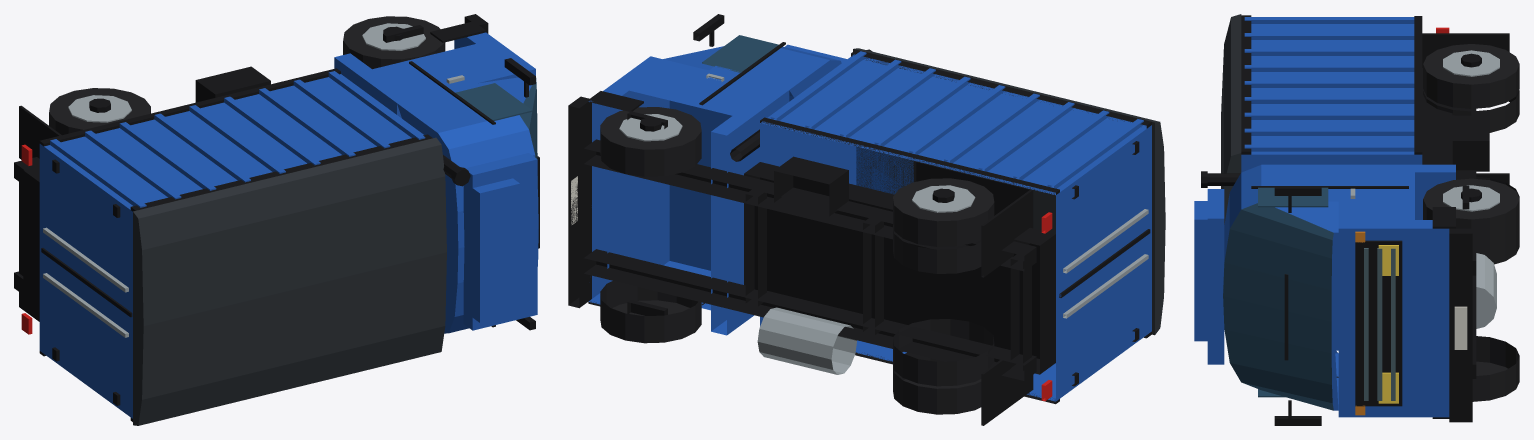
The picture shows the model from 3 angles, left to right: view 1: azimuth 30°, elevation 25°; view 2: azimuth 150°, elevation 25°; view 3: azimuth 270°, elevation 25°; orthographic projection. The views are drawn at different scales.
Parts seen in each view (by area): view 1: default_roof, default_body, default_cab_upper, default_air_dam_top, default_air_dam, default_cab_arch, default_front1, default_rear_out1, default_subframe, default_side1_-3.60_1.75_black, default_cab_back, default_battery_box (+17 smaller); view 2: default_body, default_subframe, default_cab_arch, default_chassis-1, default_cab_back, default_chassis1, default_cab_front, default_front1, default_rear_out1, default_roof, default_fuel_tank, default_bumper (+28 smaller); view 3: default_cab_upper, default_body, default_cab_front, default_rear_out1, default_grille, default_front1, default_bumper, default_cab_arch, default_roof, default_air_dam, default_front-1, default_battery_box (+33 smaller).
Boxes of the visible parts, bbox=[...] form: default_roof: bbox=[133, 137, 446, 425]; default_body: bbox=[39, 74, 423, 418]; default_cab_upper: bbox=[397, 77, 538, 333]; default_air_dam_top: bbox=[472, 178, 519, 322]; default_air_dam: bbox=[463, 153, 537, 330]; default_cab_arch: bbox=[372, 44, 516, 98]; default_front1: bbox=[343, 16, 445, 69]; default_rear_out1: bbox=[49, 88, 150, 135]; default_subframe: bbox=[23, 166, 39, 311]; default_side1_-3.60_1.75_black: bbox=[39, 68, 340, 146]; default_cab_back: bbox=[334, 53, 412, 118]; default_battery_box: bbox=[195, 66, 270, 102]; default_body: bbox=[760, 54, 1151, 401]; default_subframe: bbox=[744, 162, 1055, 374]; default_cab_arch: bbox=[629, 61, 772, 310]; default_chassis-1: bbox=[583, 249, 1036, 380]; default_cab_back: bbox=[711, 86, 789, 335]; default_chassis1: bbox=[583, 139, 1036, 271]; default_cab_front: bbox=[588, 56, 669, 304]; default_front1: bbox=[600, 107, 701, 176]; default_rear_out1: bbox=[893, 178, 994, 246]; default_roof: bbox=[853, 48, 1165, 335]; default_fuel_tank: bbox=[757, 307, 856, 374]; default_bumper: bbox=[568, 96, 591, 308]; default_cab_upper: bbox=[1223, 164, 1338, 410]; default_body: bbox=[1241, 24, 1422, 349]; default_cab_front: bbox=[1338, 220, 1449, 417]; default_rear_out1: bbox=[1423, 44, 1519, 108]; default_grille: bbox=[1355, 240, 1402, 406]; default_front1: bbox=[1423, 178, 1519, 244]; default_bumper: bbox=[1449, 228, 1472, 422]; default_cab_arch: bbox=[1338, 172, 1414, 219]; default_roof: bbox=[1221, 14, 1241, 224]; default_air_dam: bbox=[1207, 189, 1224, 364]; default_front-1: bbox=[1472, 336, 1519, 401]; default_battery_box: bbox=[1452, 115, 1489, 171].
Size of the model in its own units: 7.56 by 3.9 by 4.85.
